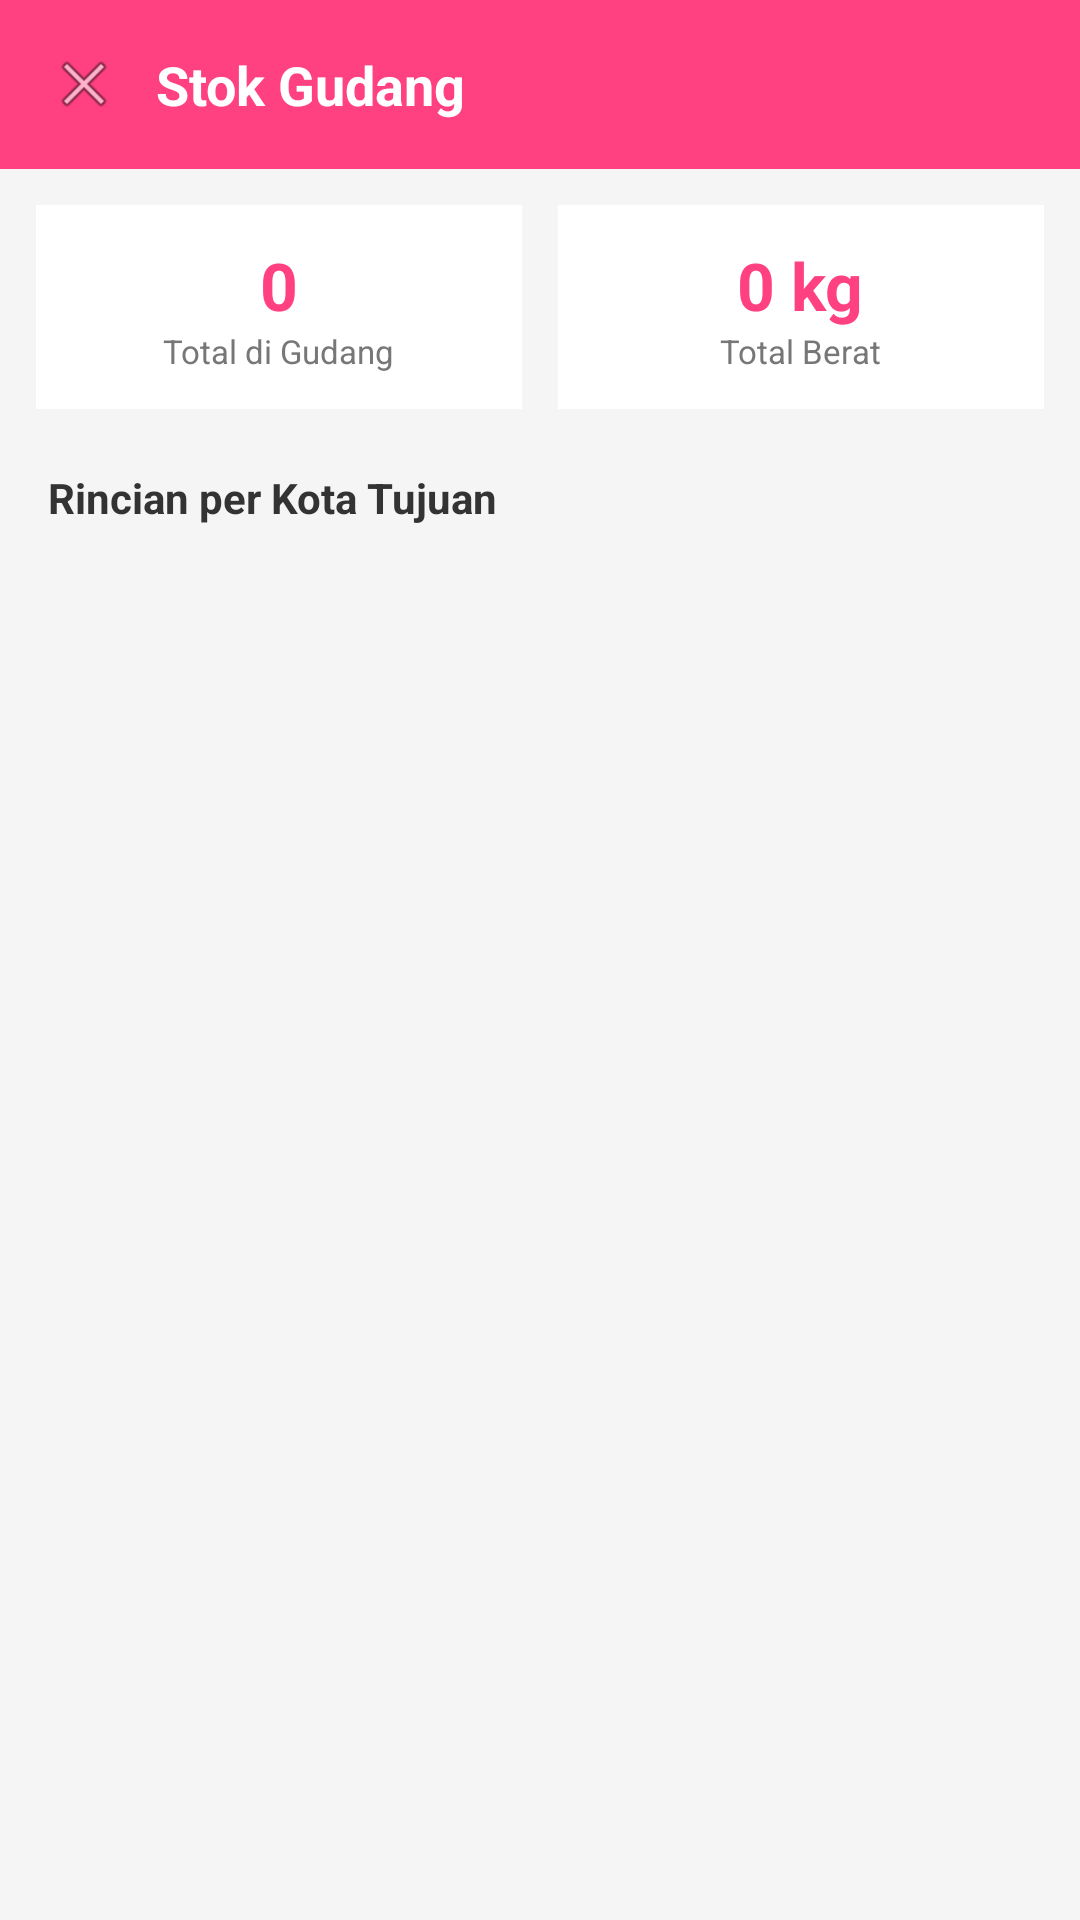

Named icons in this screenshot (1080px x 1920px) and their bounding boxes, (x1, y1, x2, y2):
close clear cancel: (61, 61, 107, 107)
